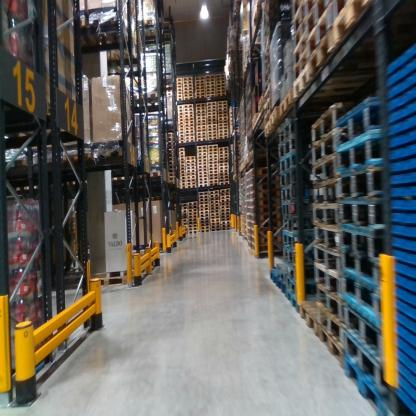pallet: (293, 43, 404, 108), (341, 299, 389, 374), (309, 96, 375, 144), (337, 126, 389, 179), (331, 1, 396, 43), (336, 96, 384, 151), (343, 329, 385, 390), (343, 355, 386, 414), (343, 270, 387, 322), (341, 246, 392, 283), (337, 162, 386, 200), (315, 278, 349, 332), (89, 262, 145, 292), (317, 322, 348, 373), (340, 192, 384, 227), (342, 221, 387, 255), (312, 255, 342, 303), (86, 10, 125, 46), (309, 34, 338, 81), (308, 8, 332, 60), (312, 127, 343, 167), (311, 149, 342, 188), (312, 239, 342, 279), (71, 14, 100, 55), (278, 88, 313, 119), (278, 209, 318, 236), (281, 225, 318, 254), (278, 181, 324, 204), (311, 174, 343, 206), (130, 18, 162, 50), (312, 220, 343, 253), (300, 301, 324, 343), (280, 242, 316, 270), (318, 303, 343, 343), (310, 201, 343, 230), (273, 132, 312, 155), (279, 196, 319, 218), (105, 47, 142, 70), (290, 48, 315, 82), (288, 274, 319, 301), (93, 146, 132, 167), (306, 2, 330, 35), (280, 118, 312, 142), (293, 31, 315, 64), (275, 148, 308, 170), (288, 263, 318, 285), (292, 13, 309, 51), (281, 164, 308, 187), (58, 151, 94, 167), (288, 4, 306, 36), (139, 168, 164, 189), (138, 87, 163, 108), (245, 162, 278, 177), (283, 288, 304, 311), (5, 152, 29, 172), (250, 220, 290, 232), (250, 185, 278, 202), (329, 2, 355, 20), (245, 171, 281, 184), (251, 246, 283, 260), (250, 208, 281, 222), (252, 233, 282, 247), (250, 113, 274, 130), (251, 179, 280, 192), (253, 227, 286, 238), (249, 201, 278, 213), (271, 269, 283, 296), (259, 97, 271, 124), (254, 243, 281, 254), (264, 122, 279, 141), (251, 197, 278, 207), (103, 173, 125, 185), (273, 262, 286, 281), (270, 108, 279, 129), (263, 85, 272, 105), (262, 53, 270, 75), (216, 85, 227, 92), (207, 176, 219, 182), (187, 201, 198, 207), (185, 155, 196, 161), (207, 144, 218, 150), (218, 146, 229, 152), (183, 95, 194, 101), (194, 94, 205, 100), (167, 176, 177, 182), (210, 218, 220, 224), (182, 75, 194, 80), (216, 92, 228, 97), (199, 229, 210, 234), (197, 170, 208, 175), (218, 153, 229, 158), (218, 165, 229, 170), (218, 168, 229, 173), (218, 170, 229, 175), (206, 101, 217, 106), (207, 126, 218, 131), (182, 82, 193, 87), (194, 76, 205, 81), (199, 190, 209, 195), (166, 145, 176, 150), (186, 174, 196, 179), (197, 145, 207, 150), (208, 170, 218, 175), (208, 163, 218, 168), (208, 157, 218, 162), (210, 224, 220, 229), (218, 135, 228, 140), (219, 129, 229, 134), (218, 126, 228, 131), (207, 123, 217, 128), (195, 112, 205, 117), (183, 104, 193, 109), (184, 135, 194, 140), (183, 92, 193, 97), (205, 81, 215, 86), (169, 180, 177, 186), (207, 151, 219, 155), (217, 175, 229, 179), (219, 189, 231, 193), (188, 214, 197, 219), (166, 157, 175, 162), (167, 141, 176, 146), (210, 212, 219, 217), (218, 120, 227, 125), (185, 110, 194, 115), (217, 80, 226, 85), (198, 210, 209, 214), (199, 225, 210, 229), (185, 159, 196, 163), (186, 185, 197, 189), (197, 155, 208, 159), (197, 167, 208, 171), (197, 174, 208, 178), (208, 183, 219, 187), (218, 181, 229, 185), (209, 216, 220, 220), (208, 190, 219, 194), (220, 217, 231, 221), (217, 101, 228, 105), (196, 135, 207, 139), (195, 110, 206, 114), (195, 103, 206, 107), (184, 116, 195, 120), (182, 87, 193, 91), (194, 83, 205, 87), (194, 86, 205, 90), (194, 89, 205, 93), (205, 91, 216, 95), (205, 94, 216, 98), (205, 74, 216, 78), (167, 153, 174, 159), (167, 148, 174, 154), (187, 221, 197, 225), (188, 208, 198, 212), (187, 206, 197, 210), (180, 224, 188, 229), (199, 194, 209, 198), (198, 197, 208, 201), (199, 206, 209, 210), (199, 216, 209, 220), (168, 165, 176, 170), (165, 133, 175, 137), (186, 162, 196, 166), (186, 165, 196, 169), (186, 168, 196, 172), (186, 172, 196, 176), (186, 181, 196, 185), (197, 149, 207, 153), (197, 158, 207, 162), (197, 161, 207, 165), (197, 164, 207, 168), (198, 183, 208, 187), (208, 180, 218, 184), (208, 167, 218, 171), (208, 154, 218, 158), (210, 203, 220, 207), (209, 194, 219, 198), (220, 198, 230, 202), (220, 201, 230, 205), (220, 205, 230, 209), (220, 208, 230, 212), (220, 214, 230, 218), (221, 220, 231, 224), (221, 226, 231, 230), (218, 132, 228, 136), (218, 123, 228, 127), (217, 108, 227, 112), (217, 104, 227, 108), (207, 108, 217, 112), (207, 114, 217, 118), (207, 117, 217, 121), (207, 121, 217, 125), (207, 134, 217, 138), (196, 128, 206, 132), (196, 123, 206, 127), (196, 119, 206, 123), (184, 120, 194, 124), (185, 129, 195, 133), (185, 139, 195, 143), (205, 84, 215, 88), (205, 78, 215, 82), (216, 83, 226, 87), (188, 230, 197, 234), (188, 228, 197, 232), (188, 211, 197, 215), (179, 206, 188, 210), (199, 204, 208, 208), (166, 137, 175, 141), (199, 177, 208, 181), (209, 173, 218, 177), (211, 222, 220, 226), (210, 200, 219, 204), (221, 195, 230, 199), (197, 125, 206, 129), (184, 113, 193, 117), (185, 123, 194, 127), (185, 131, 194, 135), (176, 93, 182, 99), (194, 79, 206, 82), (177, 120, 184, 125), (177, 130, 184, 135), (198, 214, 209, 217), (199, 220, 210, 223), (186, 178, 197, 181), (218, 150, 229, 153), (218, 156, 229, 159), (218, 162, 229, 165), (218, 178, 229, 181), (208, 197, 219, 200), (217, 117, 228, 120), (206, 105, 217, 108), (196, 132, 207, 135), (195, 107, 206, 110), (183, 108, 194, 111), (184, 126, 195, 129), (215, 77, 226, 80), (216, 89, 227, 92), (178, 160, 186, 164), (179, 175, 187, 179), (179, 182, 187, 186), (176, 105, 184, 109), (176, 108, 184, 112), (187, 218, 197, 221), (179, 203, 189, 206), (200, 223, 210, 226), (197, 152, 207, 155), (208, 161, 218, 164), (208, 149, 218, 152), (219, 159, 229, 162), (210, 207, 220, 210), (210, 209, 220, 212), (220, 192, 230, 195), (220, 211, 230, 214), (218, 112, 228, 115), (207, 111, 217, 114), (207, 131, 217, 134), (207, 137, 217, 140), (197, 138, 207, 141), (196, 116, 206, 119), (183, 80, 193, 83), (183, 90, 193, 93), (195, 93, 205, 96), (205, 88, 215, 91), (215, 74, 225, 77), (168, 160, 175, 164), (177, 124, 184, 128), (175, 78, 182, 82), (199, 201, 208, 204), (167, 173, 176, 176), (199, 181, 208, 184), (211, 228, 220, 231), (221, 223, 230, 226), (181, 215, 187, 219), (180, 219, 188, 222), (168, 169, 176, 172), (179, 147, 185, 151), (179, 153, 185, 157), (180, 166, 186, 170), (179, 186, 187, 189), (178, 137, 184, 141), (187, 225, 198, 227), (180, 209, 187, 212), (180, 212, 187, 215), (177, 114, 184, 117), (180, 172, 185, 176), (218, 114, 228, 116), (177, 97, 182, 101), (179, 151, 185, 154), (179, 157, 185, 160), (179, 164, 185, 167), (179, 170, 185, 173), (180, 179, 186, 182), (180, 222, 188, 224), (177, 88, 182, 91), (177, 85, 182, 88), (177, 82, 182, 85), (177, 119, 184, 121), (177, 128, 184, 130), (177, 135, 184, 137), (178, 112, 184, 114), (178, 141, 184, 143), (177, 91, 182, 93)
